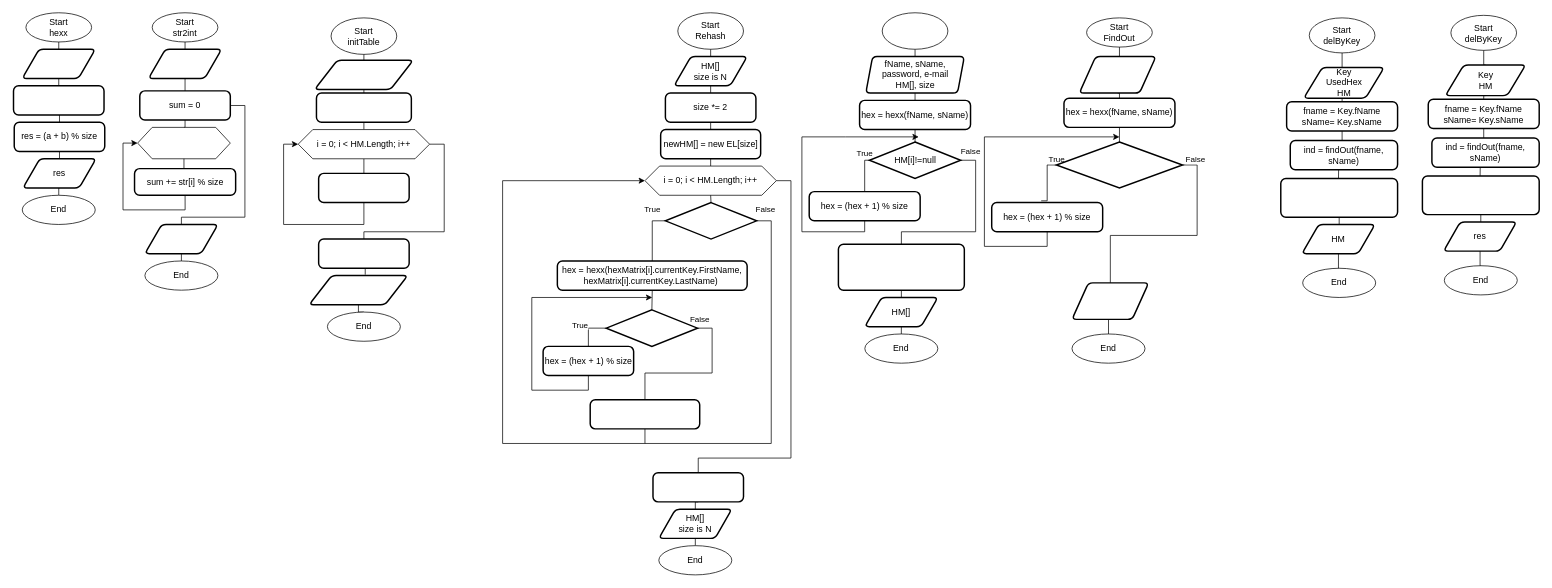
The diagram is 1552 pixels wide and 588 high, and some of its shapes have lost their labels. The shapes that lost their labels are listed below. From the top down, each one's centre as x and y in pixels, then its label:
At [914,30]: "Start Insert".
At [58,63]: "str1, str2 size is N".
At [184,63]: "str size is N".
At [364,74]: "HM, size".
At [1117,74]: "fName sName HM[]".
At [58,100]: "a = str2int(str1) b = str2int(str2)".
At [363,107]: "HM[] = new EL[12]".
At [183,143]: "i=0; i<str.Length; i++".
At [1119,164]: "HM[hex].key == new Key(fName,sName)".
At [364,187]: "HM[i] = null".
At [1339,197]: "usedHexes.Add(ind) HM[ind] = null hugeLoad--".
At [1480,195]: "res = HM[ind]".
At [181,238]: "sum".
At [710,220]: "hexMatrix[i]!=null".
At [364,253]: "size = HM.Length usdHx = new List<int>".
At [901,267]: "HM[hex] = new EL(fName, sName, password, e-mail)".
At [358,289]: "HM, size, usdHX".
At [1110,301]: "hex".
At [651,328]: "newHM[i]!=null".
At [644,414]: "newHM[hex] = hexMatrix[i]".
At [698,487]: "HM = newHM".
